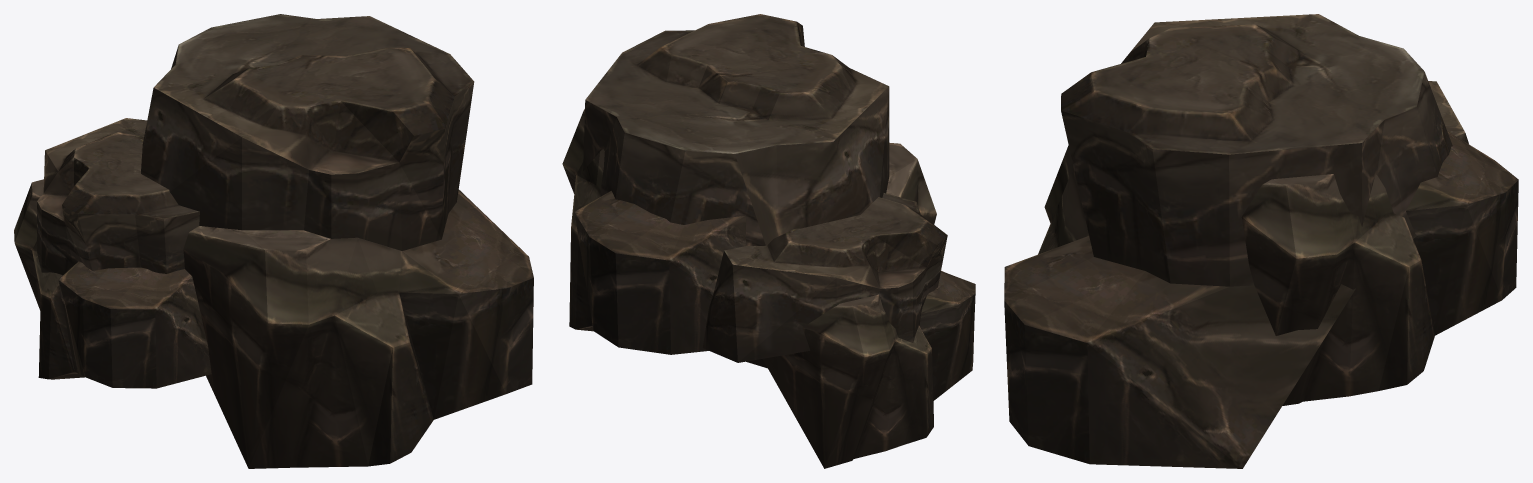
Rendered from Z_yanshi003.fbx.
The picture shows the model from 3 angles, left to right: view 1: azimuth 30°, elevation 25°; view 2: azimuth 150°, elevation 25°; view 3: azimuth 270°, elevation 25°; orthographic projection. The views are drawn at different scales.
Visible parts, largest first — view 1: Z_yanshi003; view 2: Z_yanshi003; view 3: Z_yanshi003.
Boxes of the visible parts, x1=… form: Z_yanshi003: x1=14, y1=14, x2=533, y2=468; Z_yanshi003: x1=562, y1=14, x2=975, y2=468; Z_yanshi003: x1=1004, y1=14, x2=1518, y2=468.
Size of the model in its own units: 525 by 446 by 535.
